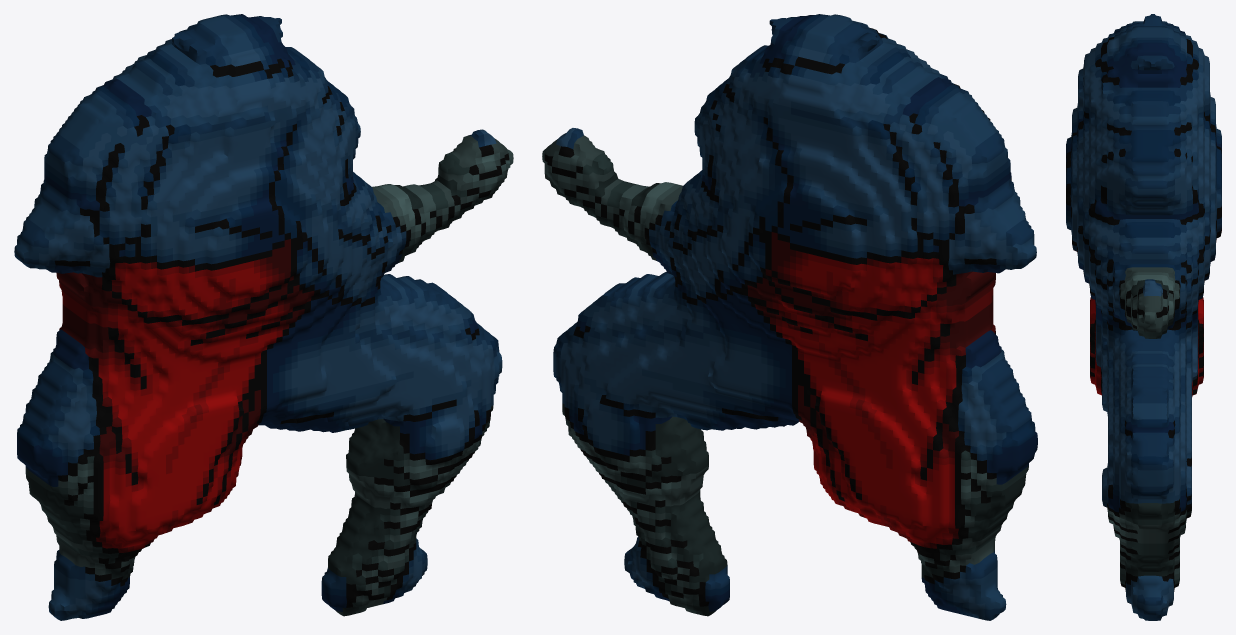
Rendered from Fight_017_2_02.obj.
3 renders of one model, left to right at view 1: azimuth 30°, elevation 25°; view 2: azimuth 150°, elevation 25°; view 3: azimuth 270°, elevation 25°, orthographic. The views are drawn at different scales.
Bounding box in the file's own units: 8 × 9.6 × 2.6.
